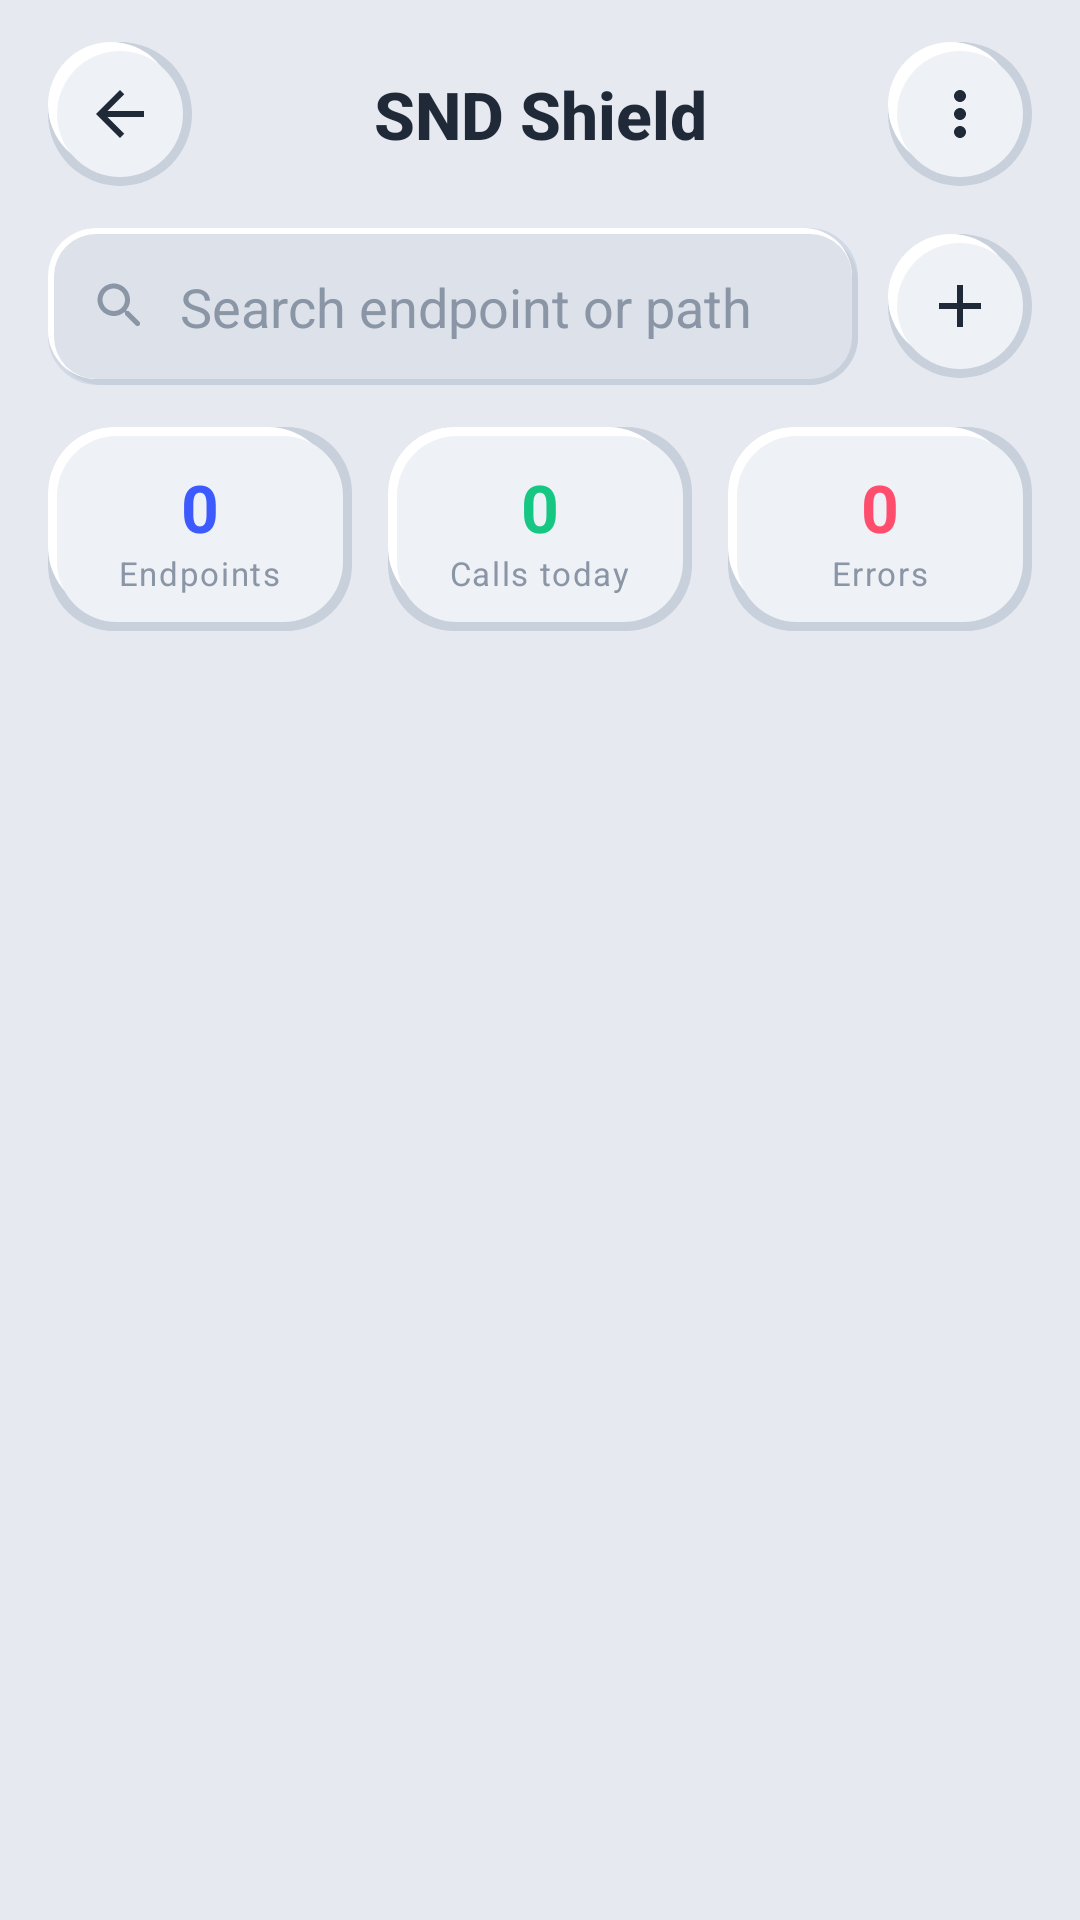

Icons on this 1080*1920 Android screen, each with its box as (x1, y1, x2, y2):
Add: (888, 234, 1032, 378)
Back: (48, 42, 192, 186)
